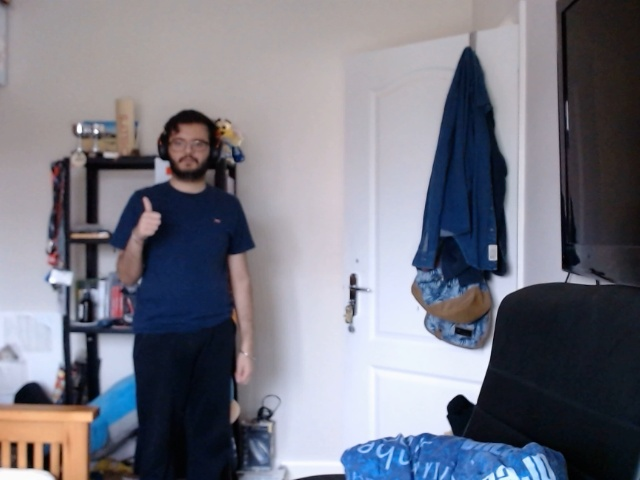Thumbs up: (130, 186, 168, 248)
